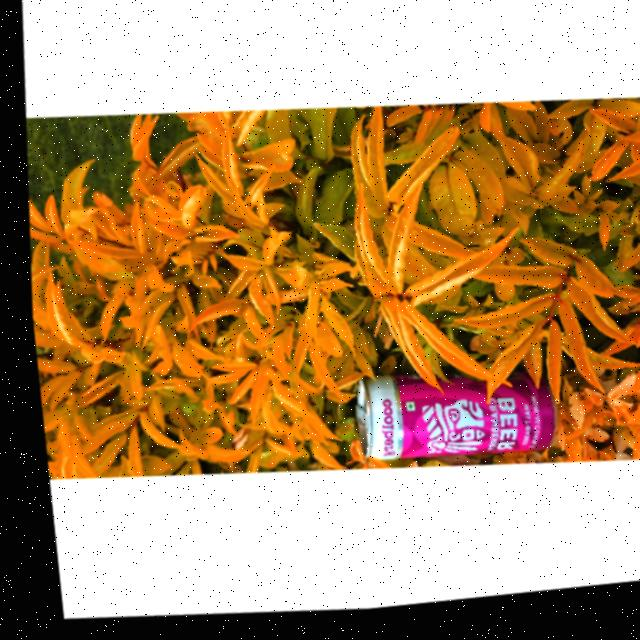Coolberg: (345, 362, 546, 474)
